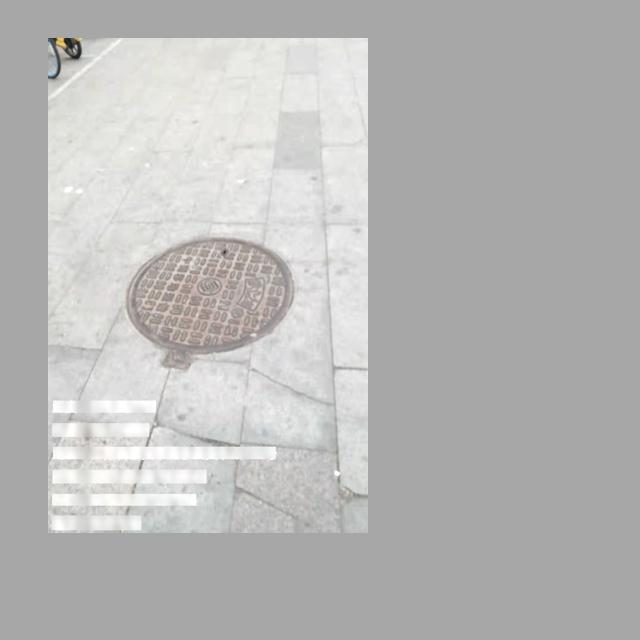good: (126, 234, 294, 372)
